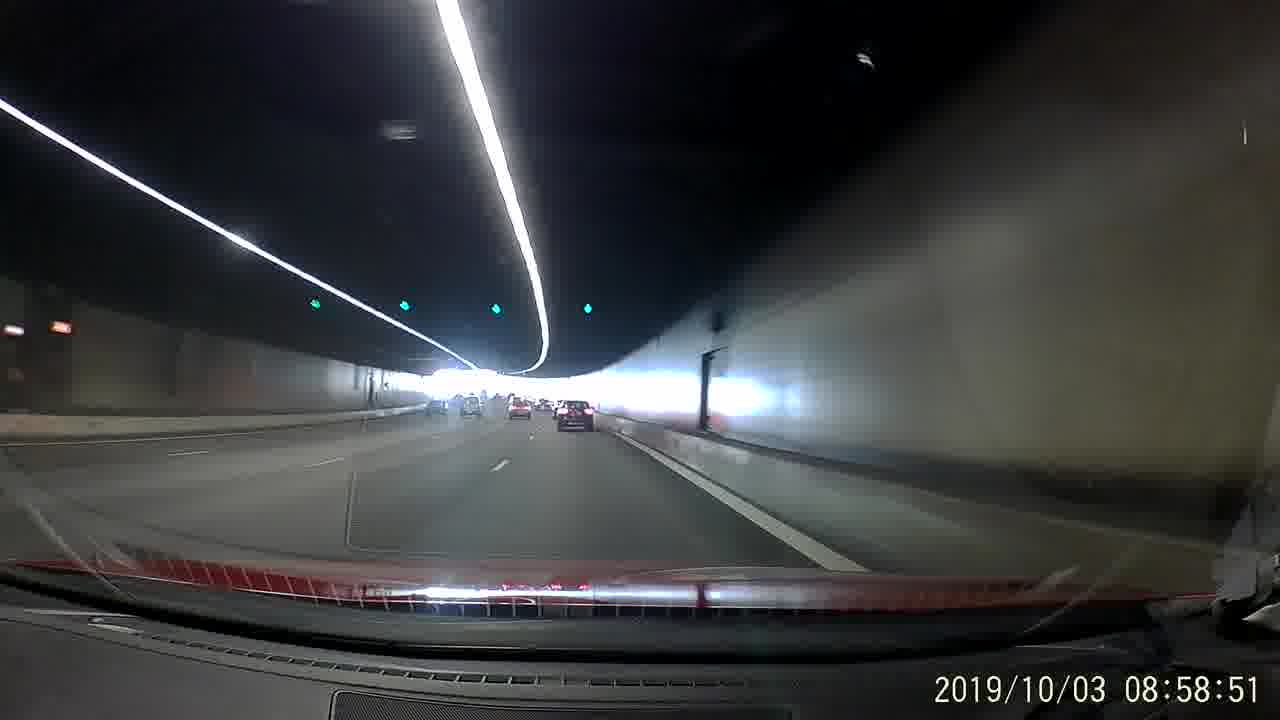car: (557, 400, 598, 430), (507, 393, 534, 419), (424, 397, 450, 421)
